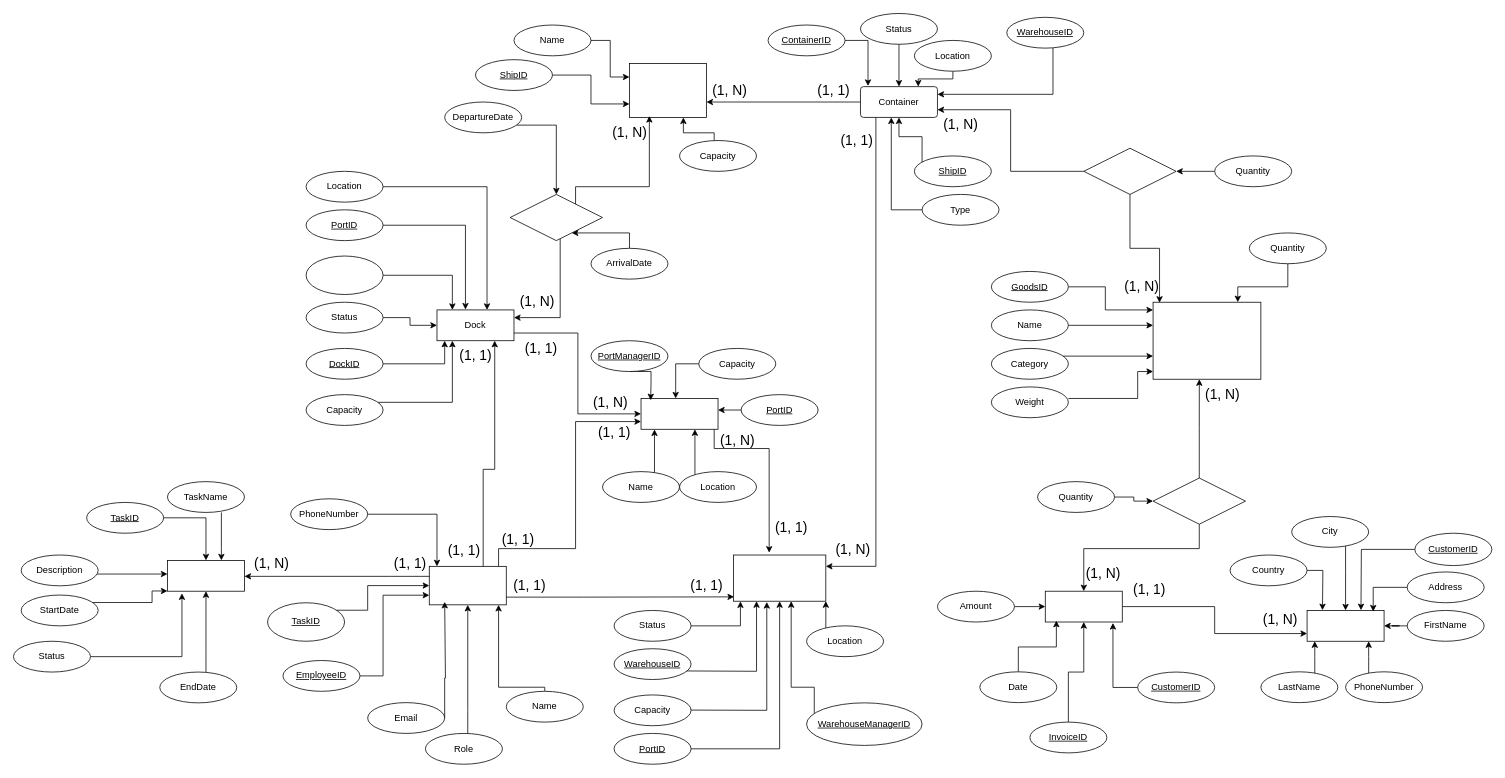
This 1505x778 diagram has some shape labels left out. Each missing label, with the centre of its shape:
ContainerGoods: point 1129,170
Customer: point 1345,625
DockManagerID: point 344,275
DockShip: point 556,217
Employee: point 467,585
Goods: point 1206,340
GoodsInvoice: point 1198,500
Invoice: point 1083,606
Port: point 679,413
Ship: point 667,90
Task: point 205,575
Warehouse: point 779,577
